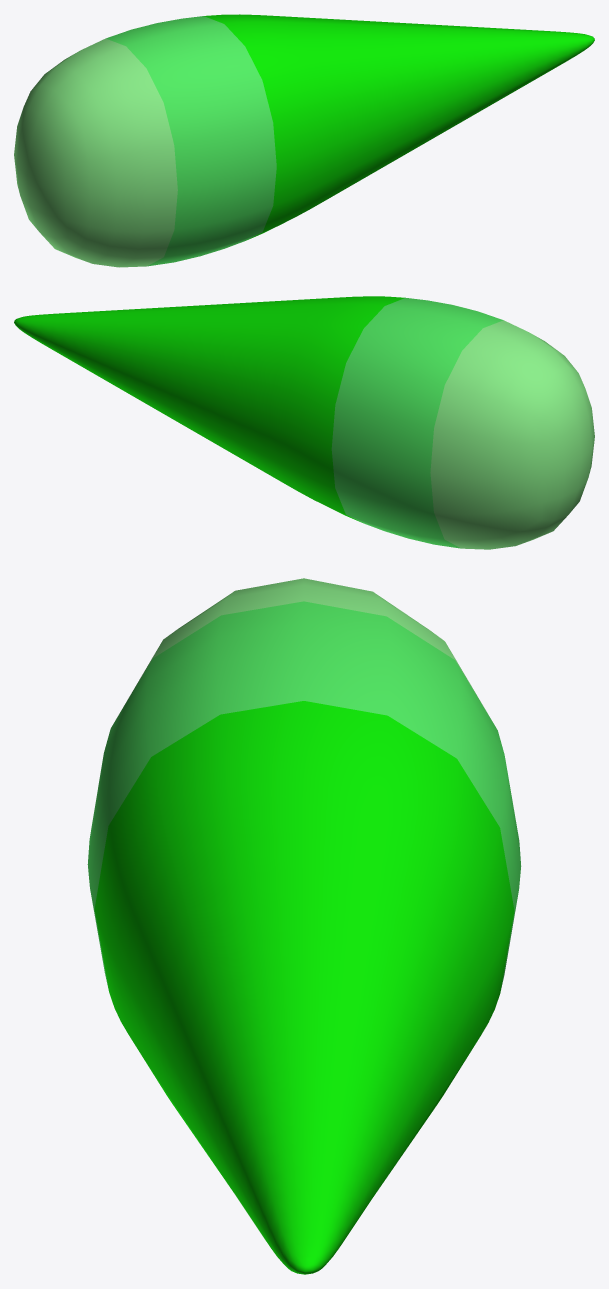
The model's file is GreenBeam.fbx.
The picture shows the model from 3 angles, top to bottom: view 1: azimuth 30°, elevation 25°; view 2: azimuth 150°, elevation 25°; view 3: azimuth 270°, elevation 25°; orthographic projection. The views are drawn at different scales.
Parts seen in each view (by area): view 1: Cube; view 2: Cube; view 3: Cube.
Part boxes in pixels (x1,y1,x2,y2): Cube: [14, 14, 594, 267]; Cube: [14, 296, 594, 549]; Cube: [87, 578, 521, 1274].
Bounding box in the file's own units: 320 × 117 × 106.
